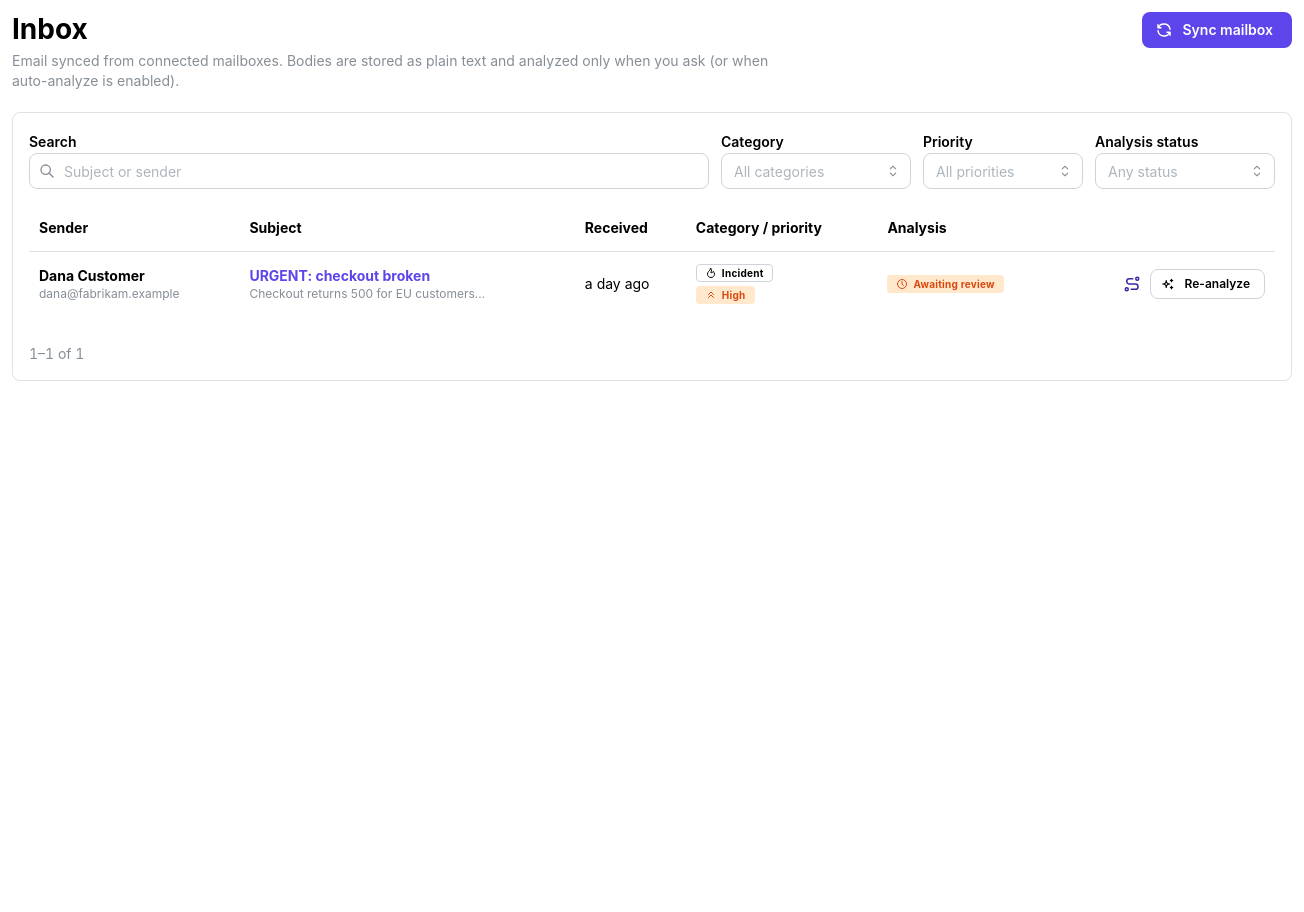
Test: <InboxPage> sync › says "Nothing to sync" when no job was queued
Expected: the table named "Emails" is shown, [29, 205, 1275, 316]
Step 1. Click the button "Sync mailbox" → (1217, 30), box [1142, 12, 1292, 48]
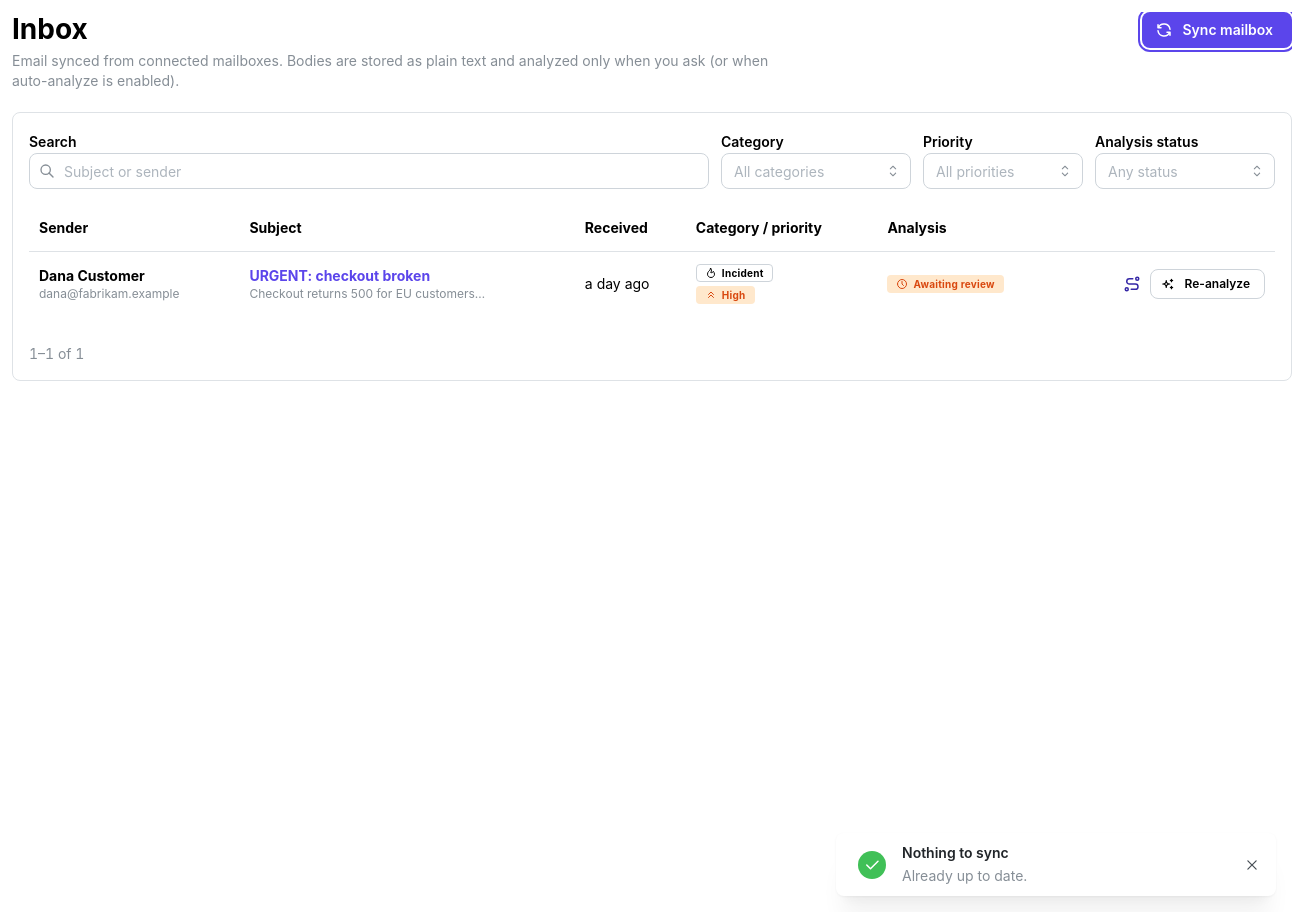
Expected: the text "Nothing to sync" is shown, [902, 844, 1009, 861]
